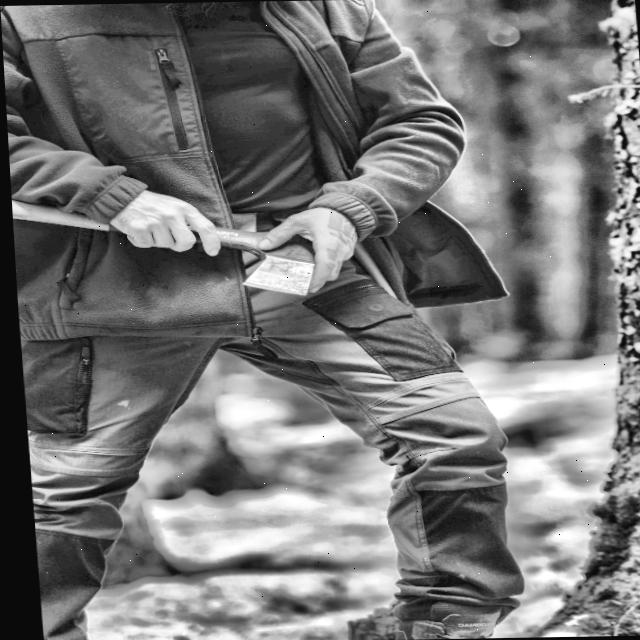kapak: (9, 145, 378, 330)
